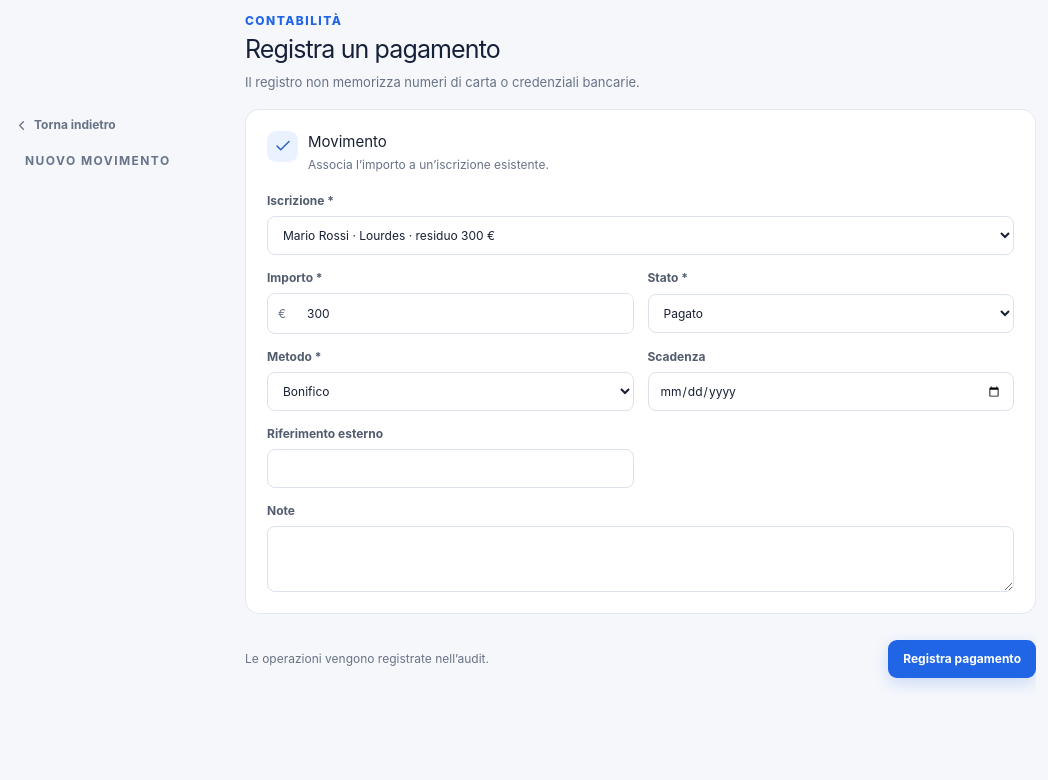
PaymentForm contextual payment flow › updates the proposed balance when another trip is selected
Select "Mario Rossi · Fatima · residuo 50 €" in the dropdown labelled "Iscrizione *": [640, 236] box [267, 216, 1014, 255]
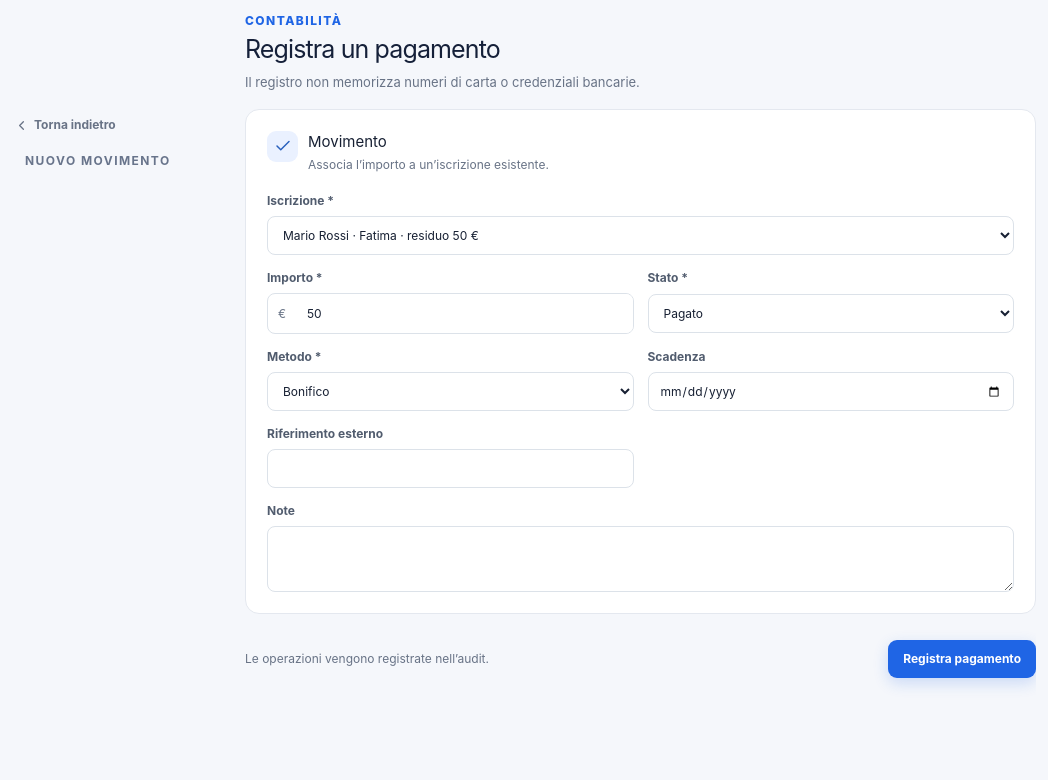
expect the number field labelled "Importo * €" holds "50": met, box [296, 294, 632, 333]
